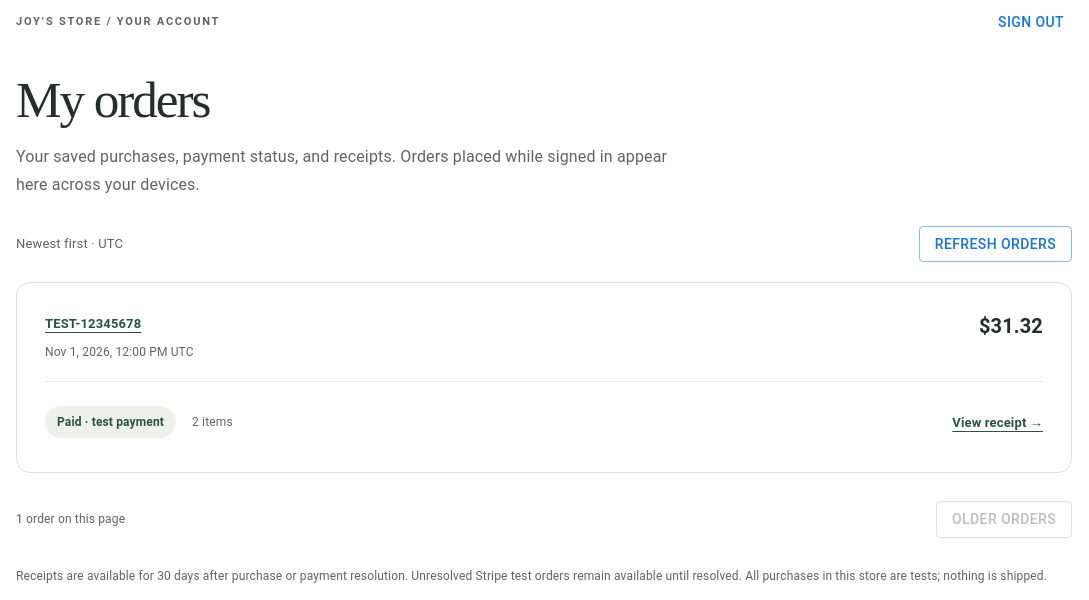
expired or denied account sessions clear summaries and prompt sign-in: 401
Check: the list named "Your orders" is shown, box [16,282,1072,473]
Click the button "Refresh orders" at (995, 244), box [919,226,1072,262]
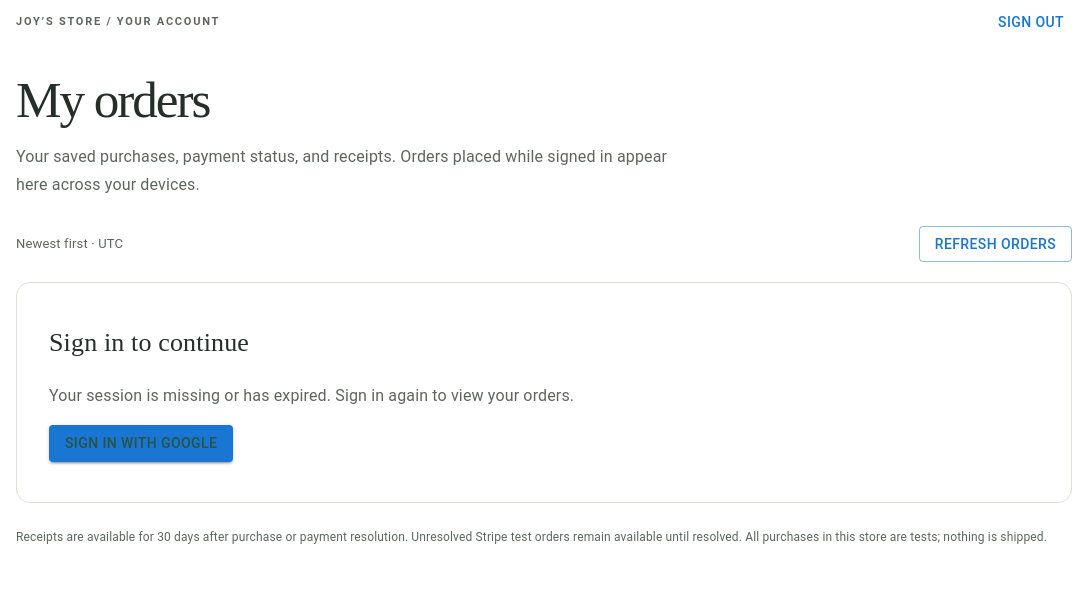
Check: the link "TEST-12345678" is gone
